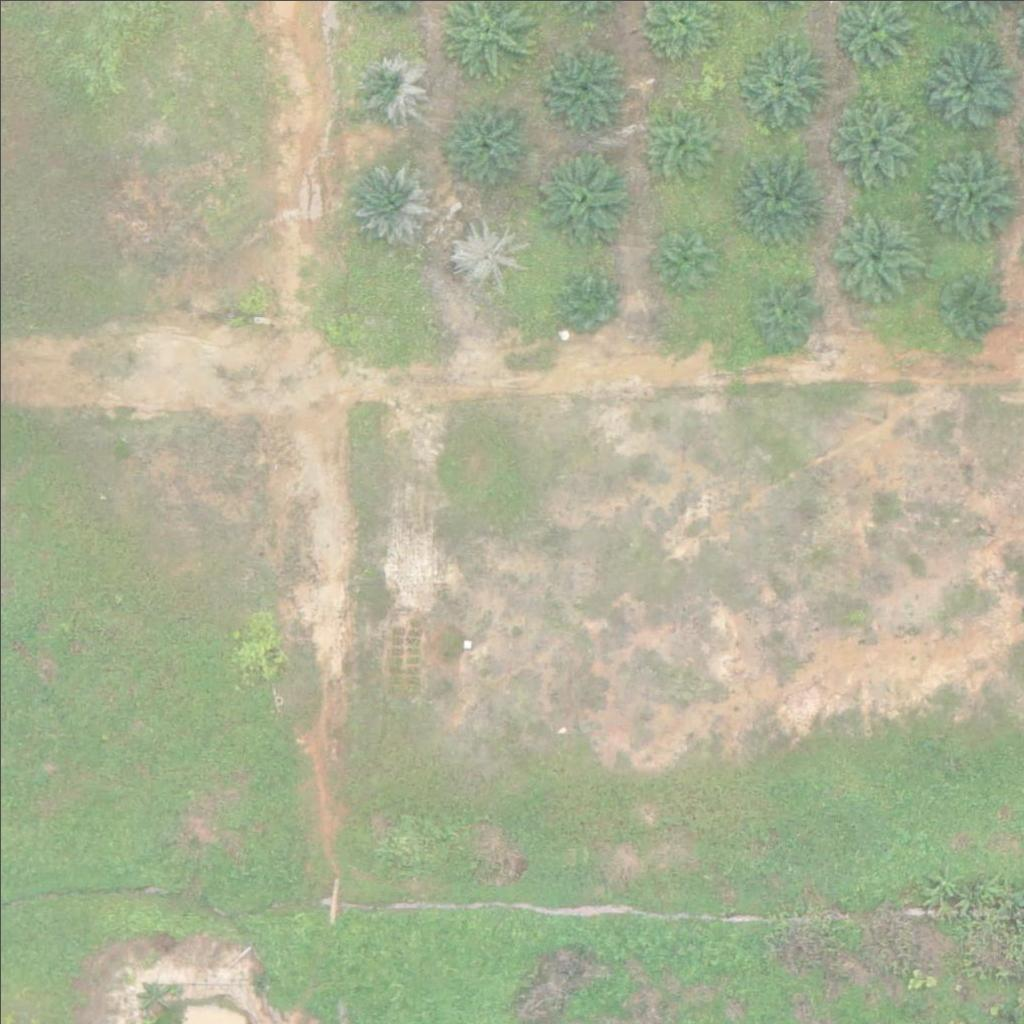Kelapa_Sawit: (920, 141, 1020, 242), (917, 33, 1017, 134), (823, 203, 923, 304), (531, 146, 631, 246), (432, 92, 532, 192), (827, 91, 915, 180), (733, 149, 821, 237), (736, 36, 824, 124), (348, 156, 436, 244), (539, 41, 626, 129), (450, 217, 525, 293), (349, 47, 424, 123), (644, 99, 719, 174), (751, 278, 814, 341), (654, 231, 717, 294), (934, 276, 997, 339), (559, 271, 621, 333)
